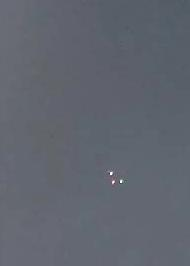Plane: (101, 162, 132, 193)
